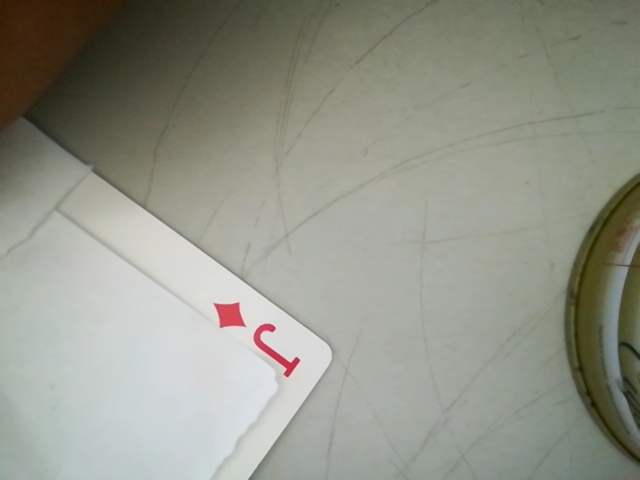fk j: (215, 291, 309, 387)
